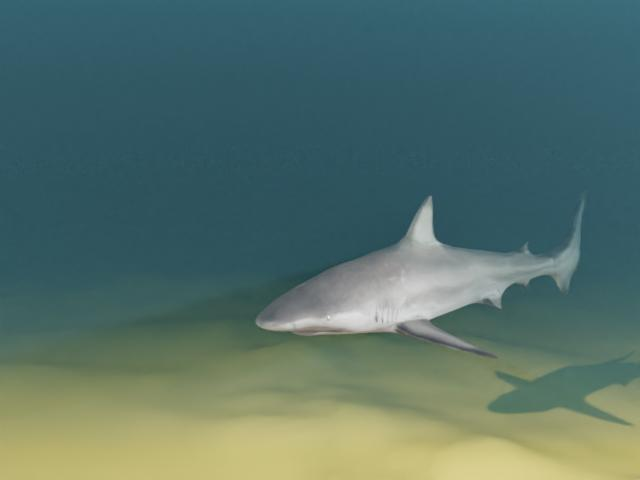Carribean Shark.001: (255, 190, 587, 359)
